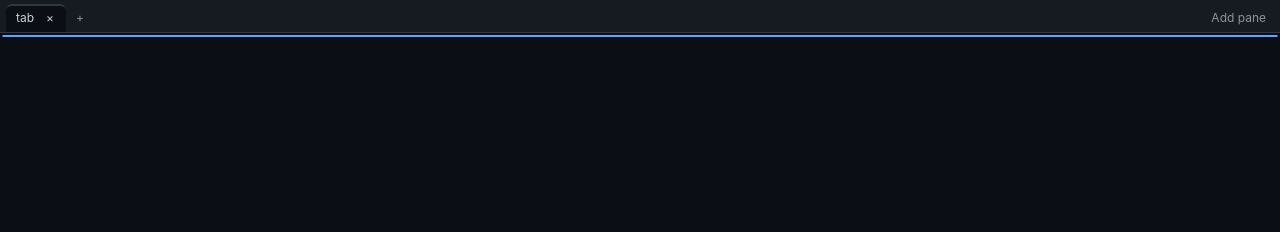
Test: adding a pane › opens a graph pane beside the focused one
The width and height of the screenshot is (1280, 232).
expect the text "graph" is not shown: met
Click the button "Add pane": [1239, 18] box x1=1203 y1=8 x2=1274 y2=28
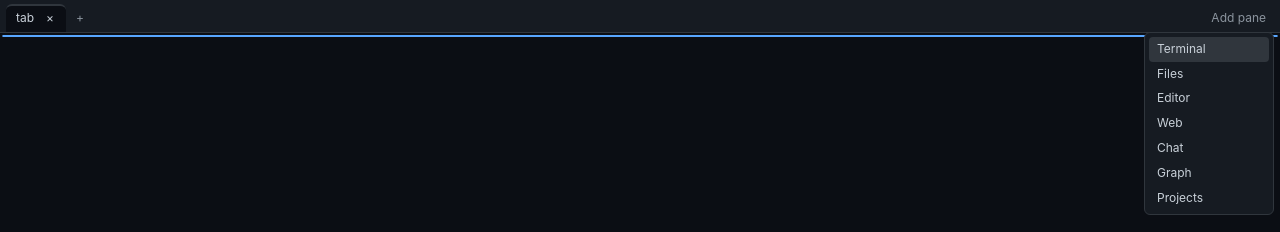
Click the menu item "Graph": [1209, 173] box x1=1149 y1=161 x2=1269 y2=186
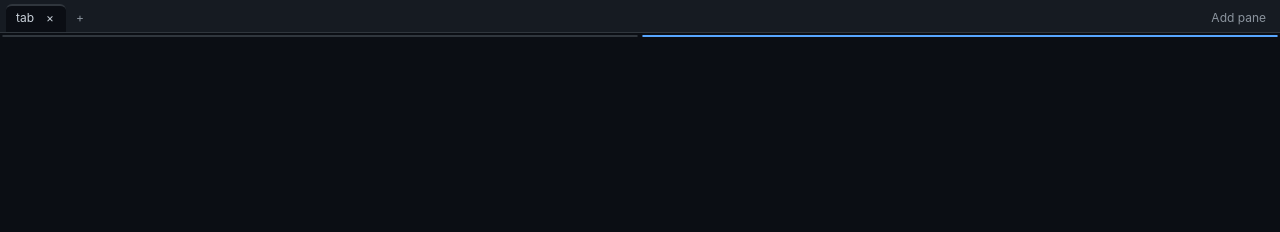
expect the menu is gone: met
